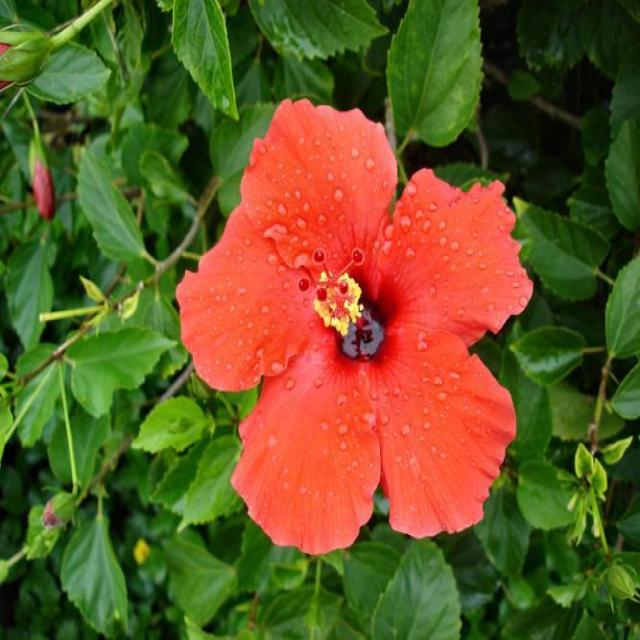hibiscus: (152, 65, 537, 608)
